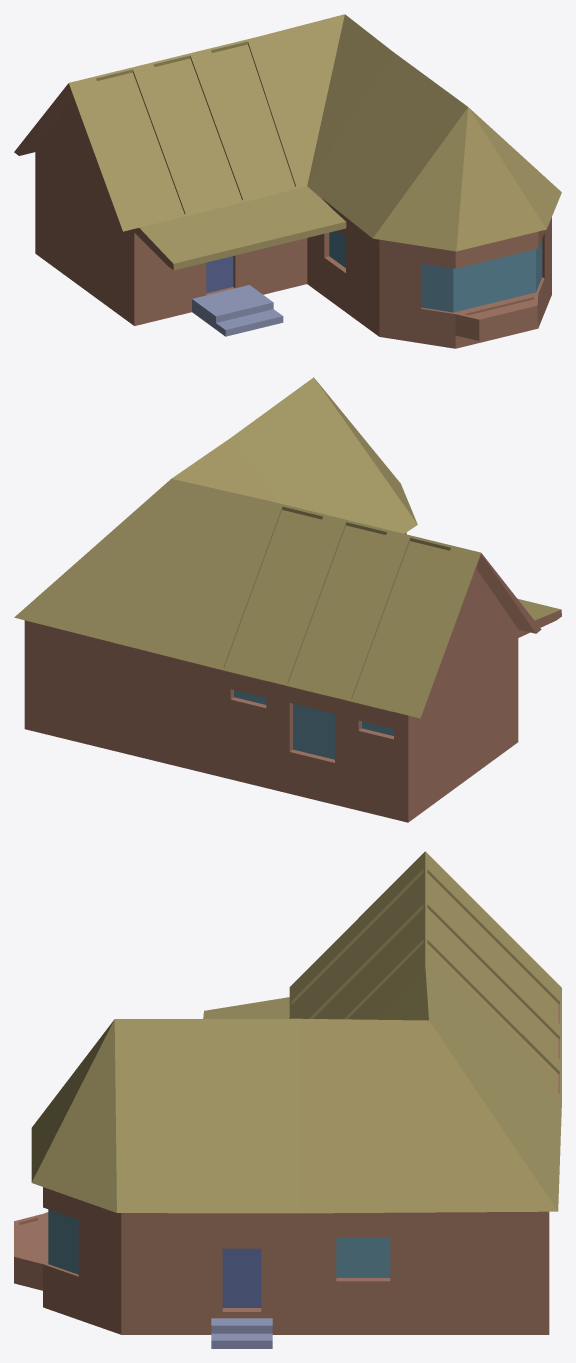
The model's file is House 1.fbx.
3 renders of one model, top to bottom at view 1: azimuth 30°, elevation 25°; view 2: azimuth 150°, elevation 25°; view 3: azimuth 270°, elevation 25°, orthographic. The views are drawn at different scales.
Parts seen in each view (by area): view 1: Cube; view 2: Cube; view 3: Cube.
Part boxes in pixels (box(x1,y1,x2,y2)): Cube: box(14, 14, 561, 348); Cube: box(14, 377, 561, 822); Cube: box(14, 851, 561, 1348).
Size of the model in its own units: 369 by 193 by 364.
